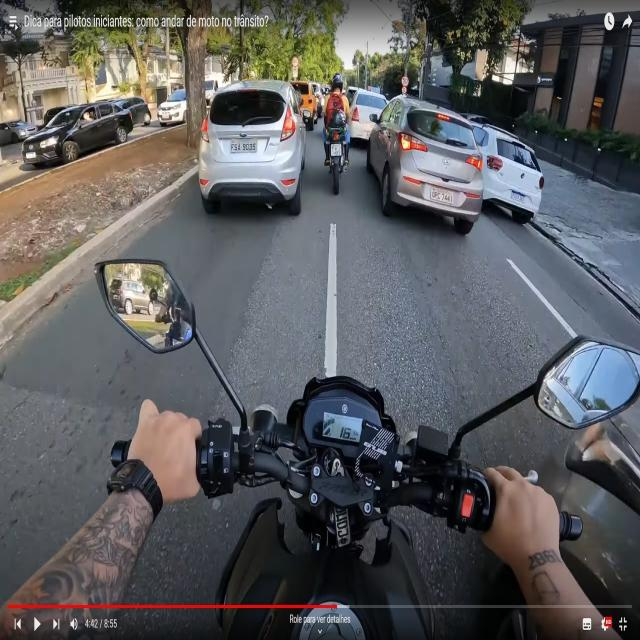placa_moto: (330, 143, 341, 157)
